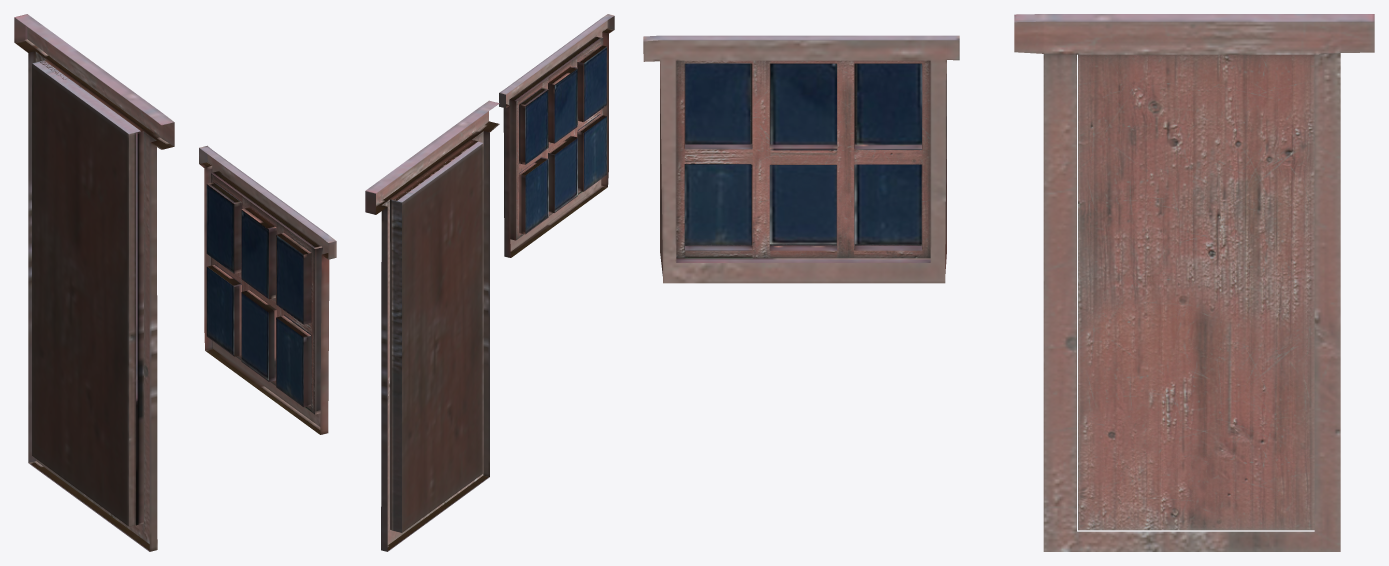
File: ExtraWindowDoor.fbx
The picture shows the model from 3 angles, left to right: view 1: azimuth 30°, elevation 25°; view 2: azimuth 150°, elevation 25°; view 3: azimuth 270°, elevation 25°; orthographic projection. The views are drawn at different scales.
Parts seen in each view (by area): view 1: Door, Window, DoorFrame; view 2: Door, Window, DoorFrame; view 3: Door, Window, DoorFrame.
Boxes of the visible parts, box(x1,y1,x2,y2) form: Door: box(32, 60, 140, 526); Window: box(199, 145, 336, 434); DoorFrame: box(14, 14, 174, 551); Door: box(391, 141, 483, 532); Window: box(499, 14, 614, 257); DoorFrame: box(365, 100, 499, 551); Door: box(1078, 54, 1314, 530); Window: box(643, 35, 959, 283); DoorFrame: box(1014, 14, 1374, 551).
Bounding box in the file's own units: 4.9 × 67.98 × 84.48.
Materials: 1 (1 with a texture image).
